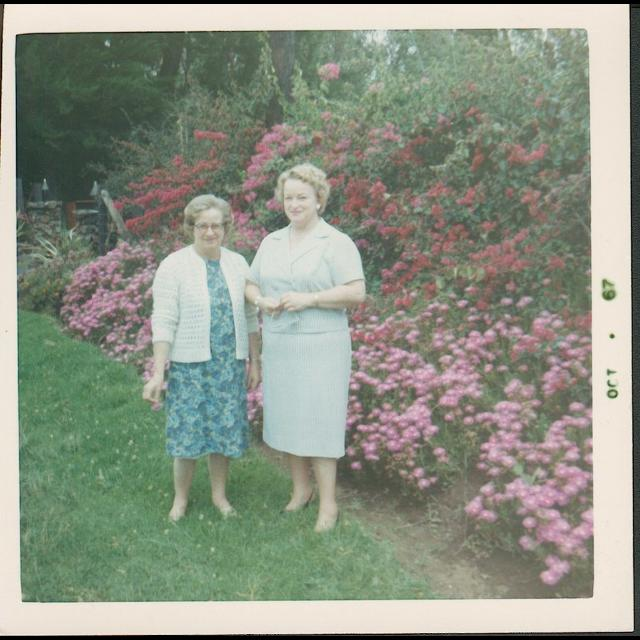Flower: (18, 57, 594, 598)
